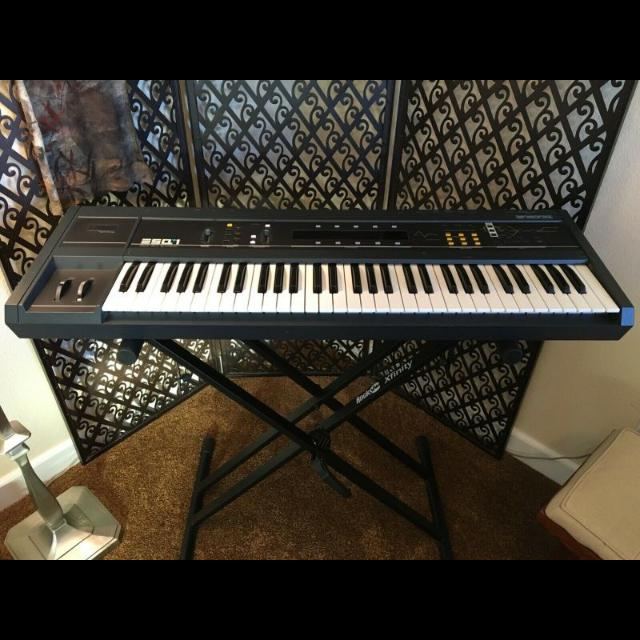Electronic-Keyboard: (10, 192, 632, 352)
